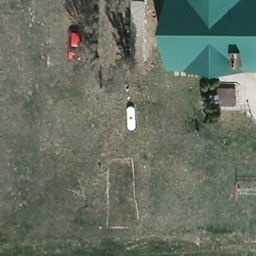car: (67, 26, 83, 62)
